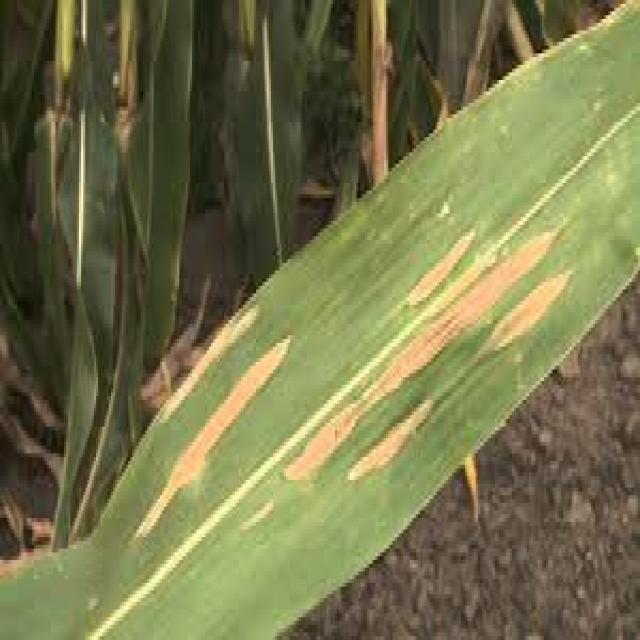Corn_Leaf_Blight: (152, 53, 586, 621)
